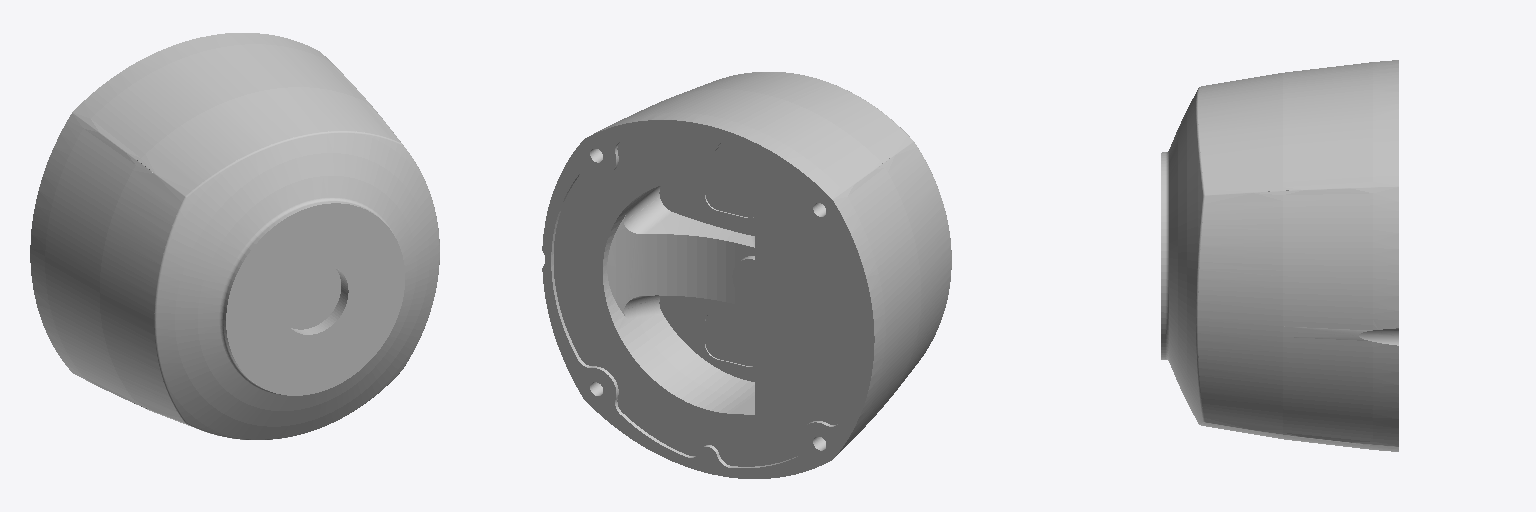
3 renders of one model, left to right at view 1: azimuth 30°, elevation 25°; view 2: azimuth 150°, elevation 25°; view 3: azimuth 270°, elevation 25°, orthographic.
Visible parts, largest first — view 1: Base; view 2: Base; view 3: Base.
Part boxes in pixels (bbox=[...]): Base: bbox=[30, 33, 439, 439]; Base: bbox=[542, 72, 951, 478]; Base: bbox=[1161, 60, 1398, 451].
Size of the model in its own units: 0.2527 by 0.2528 by 0.157.